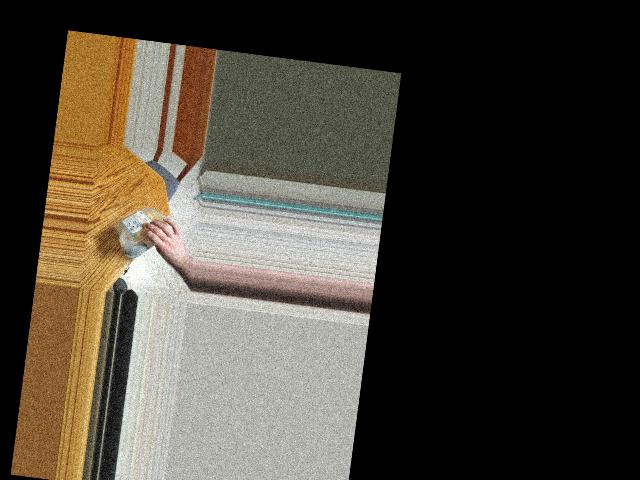cheese: (110, 200, 182, 261)
